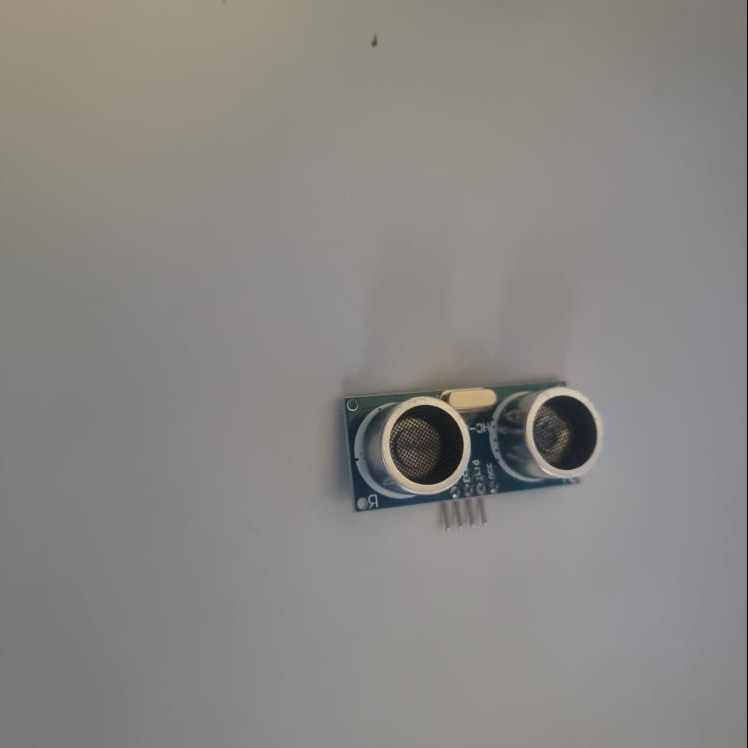SENSOR: (343, 377, 607, 517)
